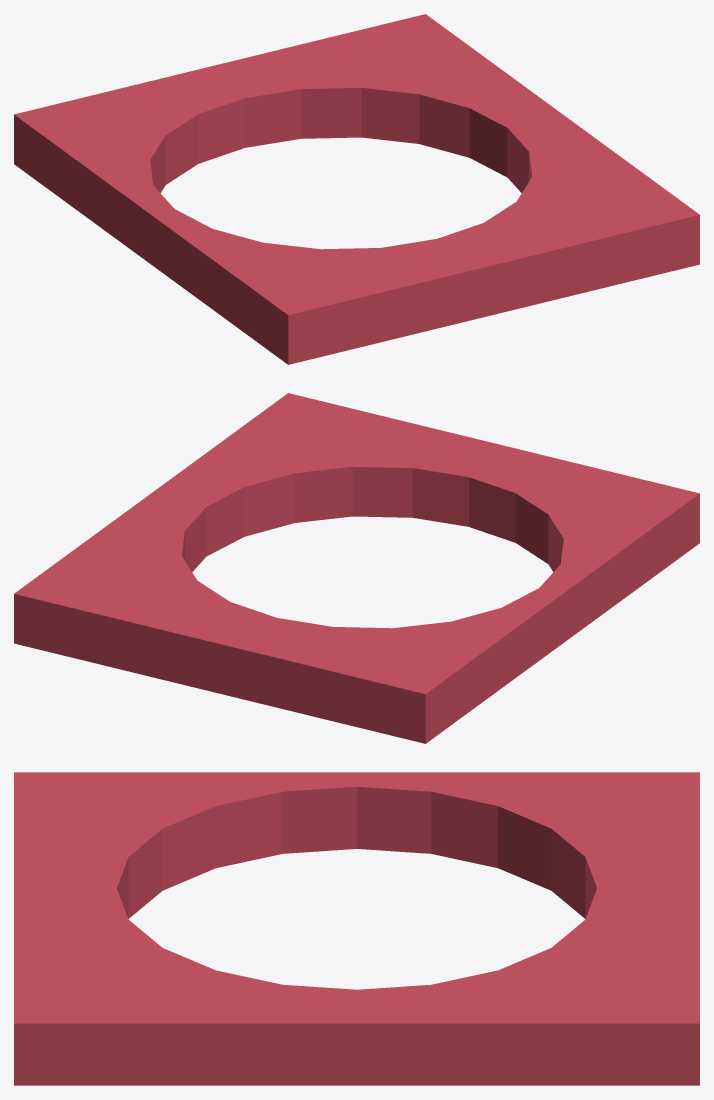
Rendered from forat_cercle.glb.
3 views of the same model, one above another, from view 1: azimuth 30°, elevation 25°; view 2: azimuth 150°, elevation 25°; view 3: azimuth 270°, elevation 25° (orthographic). The views are drawn at different scales.
Visible parts, largest first — view 1: Mesh_Mesh_head_geo.001_lambert2SG.001; view 2: Mesh_Mesh_head_geo.001_lambert2SG.001; view 3: Mesh_Mesh_head_geo.001_lambert2SG.001.
Boxes of the visible parts, left/top/right/bottom form: Mesh_Mesh_head_geo.001_lambert2SG.001: left=14, top=14, right=699, bottom=364; Mesh_Mesh_head_geo.001_lambert2SG.001: left=14, top=393, right=699, bottom=743; Mesh_Mesh_head_geo.001_lambert2SG.001: left=14, top=772, right=699, bottom=1085.
Bounding box in the file's own units: 26 × 3 × 30.
